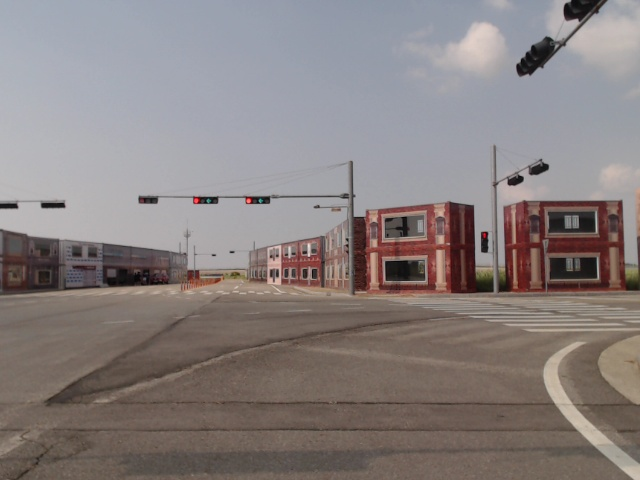left_green_4: (193, 197, 218, 203), (246, 198, 269, 204)
